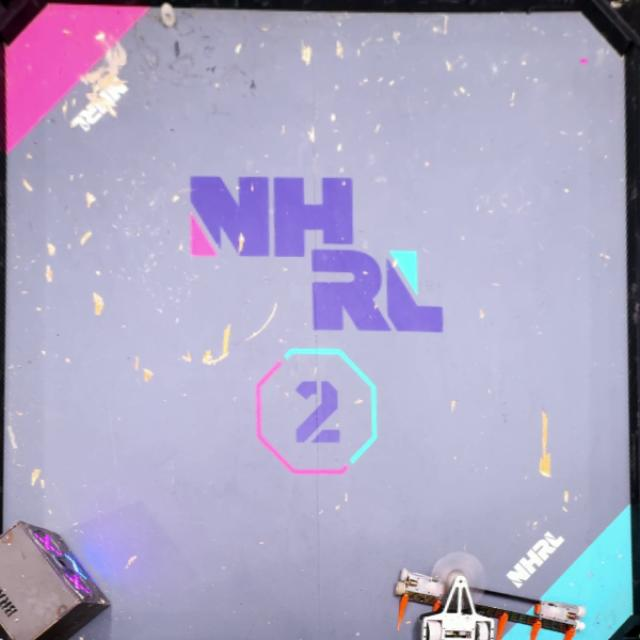housebot: (0, 520, 112, 640)
robot: (396, 568, 585, 640), (418, 553, 495, 640)
